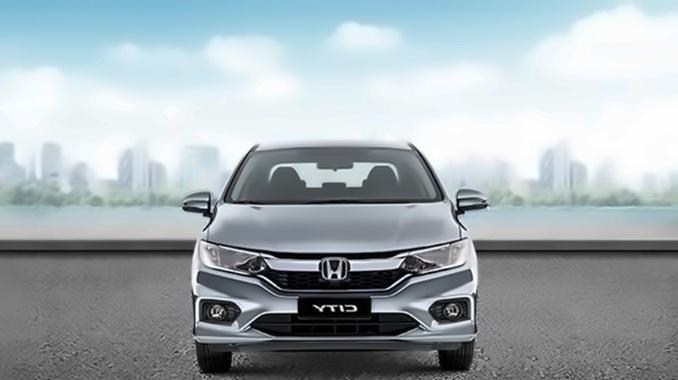Car hood: (206, 198, 463, 257)
Front bumper: (189, 271, 483, 356)
Headlight - -L-: (395, 232, 476, 278)
Headlight - -R-: (196, 235, 267, 280)
Side mirror - -L-: (447, 183, 492, 218)
Side mirror - -R-: (177, 181, 222, 224)
